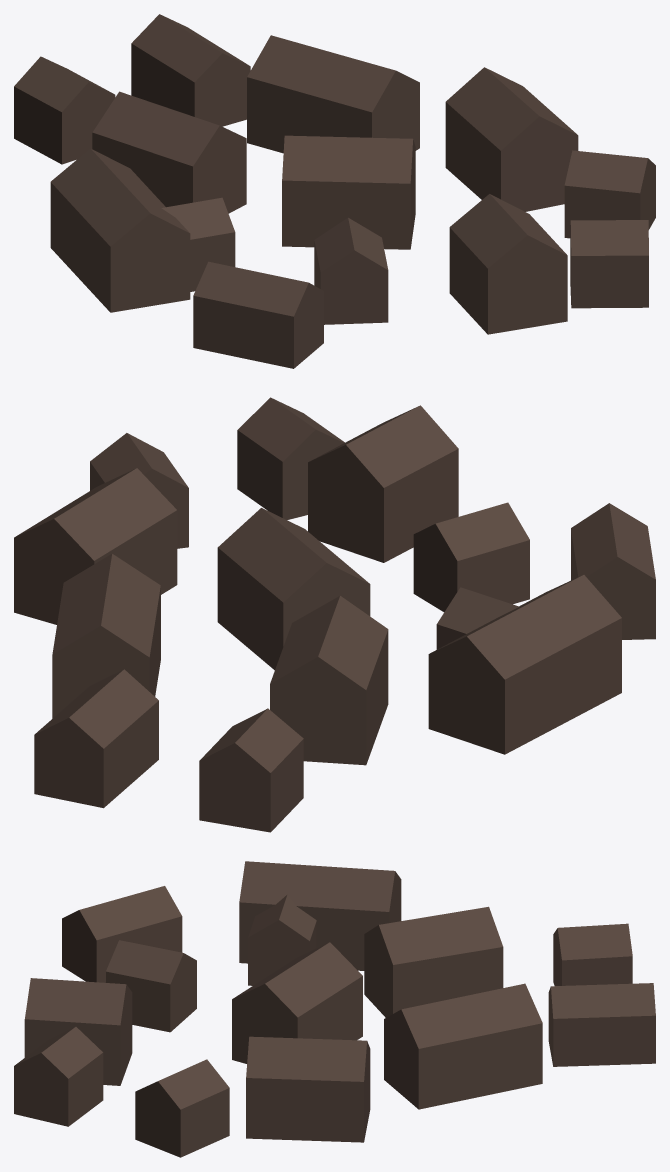
Rendered from city01.fbx.
3 views of the same model, one above another, from view 1: azimuth 30°, elevation 25°; view 2: azimuth 150°, elevation 25°; view 3: azimuth 270°, elevation 25° (orthographic). The views are drawn at different scales.
Parts seen in each view (by area): view 1: pCube19; view 2: pCube19; view 3: pCube19.
Boxes of the visible parts, box(x1,y1,x2,y2) form: pCube19: box(14, 14, 655, 368); pCube19: box(14, 397, 655, 832); pCube19: box(14, 861, 655, 1157).
Bounding box in the file's own units: 0.4808 × 0.0845 × 0.5739.
